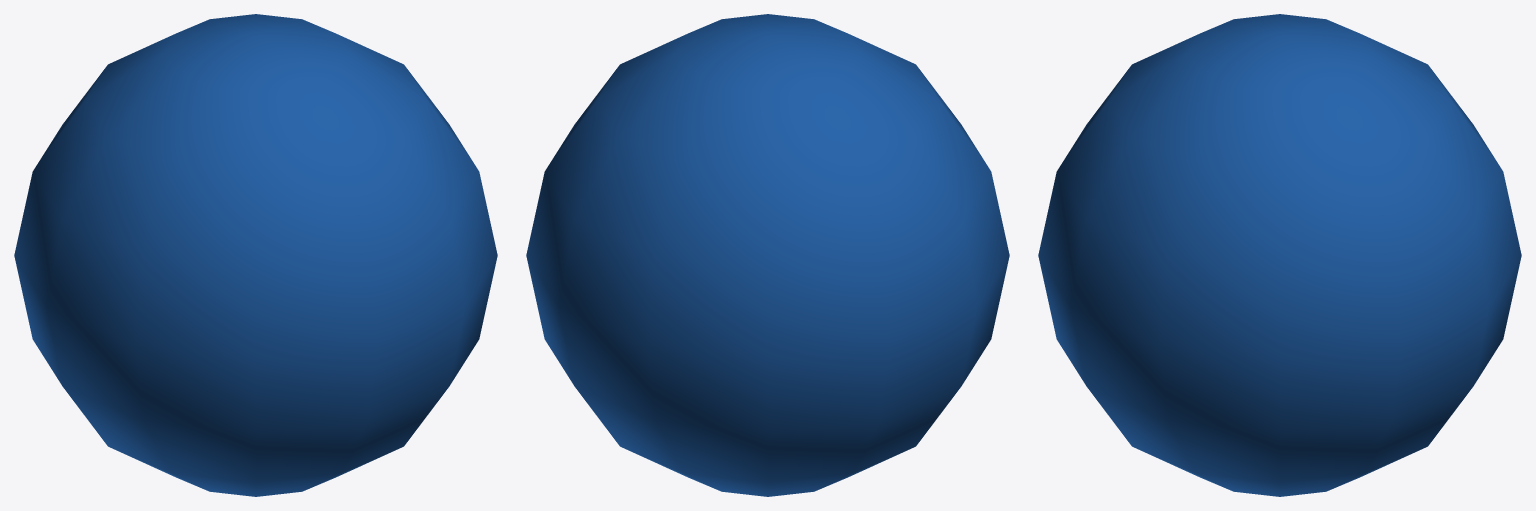
File: sequence.glb
The picture shows the model from 3 angles, left to right: view 1: azimuth 30°, elevation 25°; view 2: azimuth 150°, elevation 25°; view 3: azimuth 270°, elevation 25°; orthographic projection.
Visible parts, largest first — view 1: sample.mesh; view 2: sample.mesh; view 3: sample.mesh.
Boxes of the visible parts, box(x1,y1,x2,y2) form: sample.mesh: box(14, 14, 497, 496); sample.mesh: box(526, 14, 1009, 496); sample.mesh: box(1038, 14, 1521, 496).
Bounding box in the file's own units: 2 × 2 × 2.
